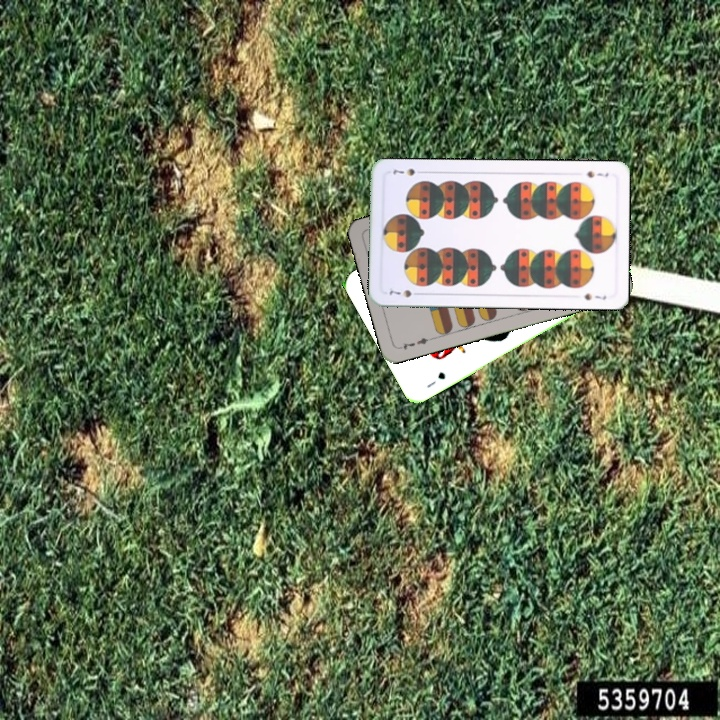E7: (395, 333, 435, 352)
GU: (423, 368, 448, 391)
S7: (385, 285, 424, 300), (583, 167, 611, 180)
